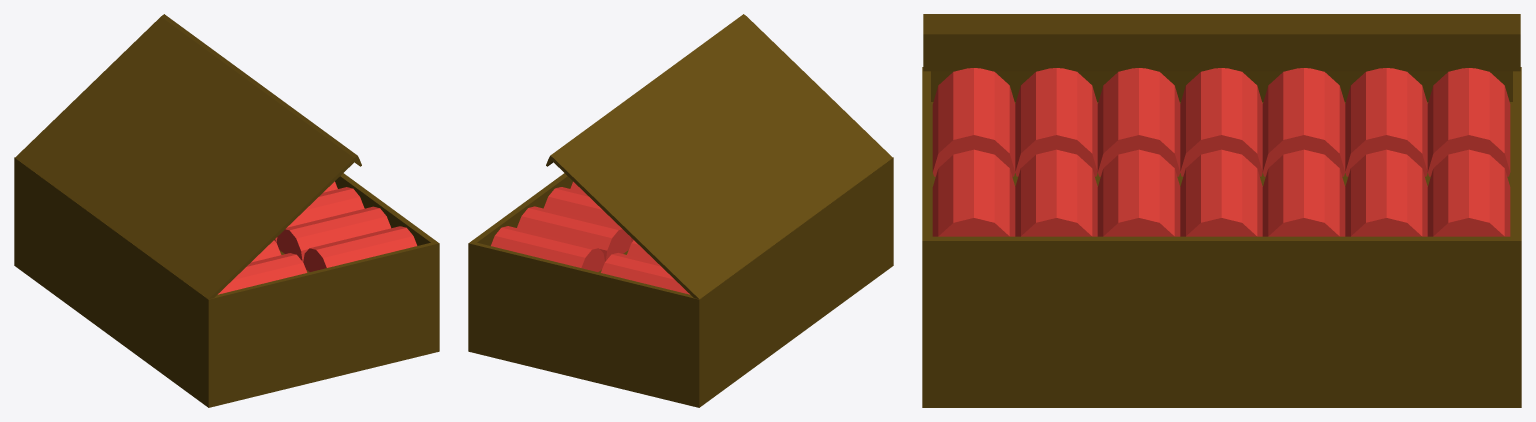
Rendered from ammo_buckshot.fbx.
The picture shows the model from 3 angles, left to right: view 1: azimuth 30°, elevation 25°; view 2: azimuth 150°, elevation 25°; view 3: azimuth 270°, elevation 25°; orthographic projection. The views are drawn at different scales.
Visible parts, largest first — view 1: ShotgunAmmo; view 2: ShotgunAmmo; view 3: ShotgunAmmo.
Part boxes in pixels (left/top/right/bottom): ShotgunAmmo: left=14, top=14, right=439, bottom=407; ShotgunAmmo: left=468, top=14, right=893, bottom=407; ShotgunAmmo: left=922, top=14, right=1521, bottom=407.
Bounding box in the file's own units: 8.92 × 7.96 × 13.
